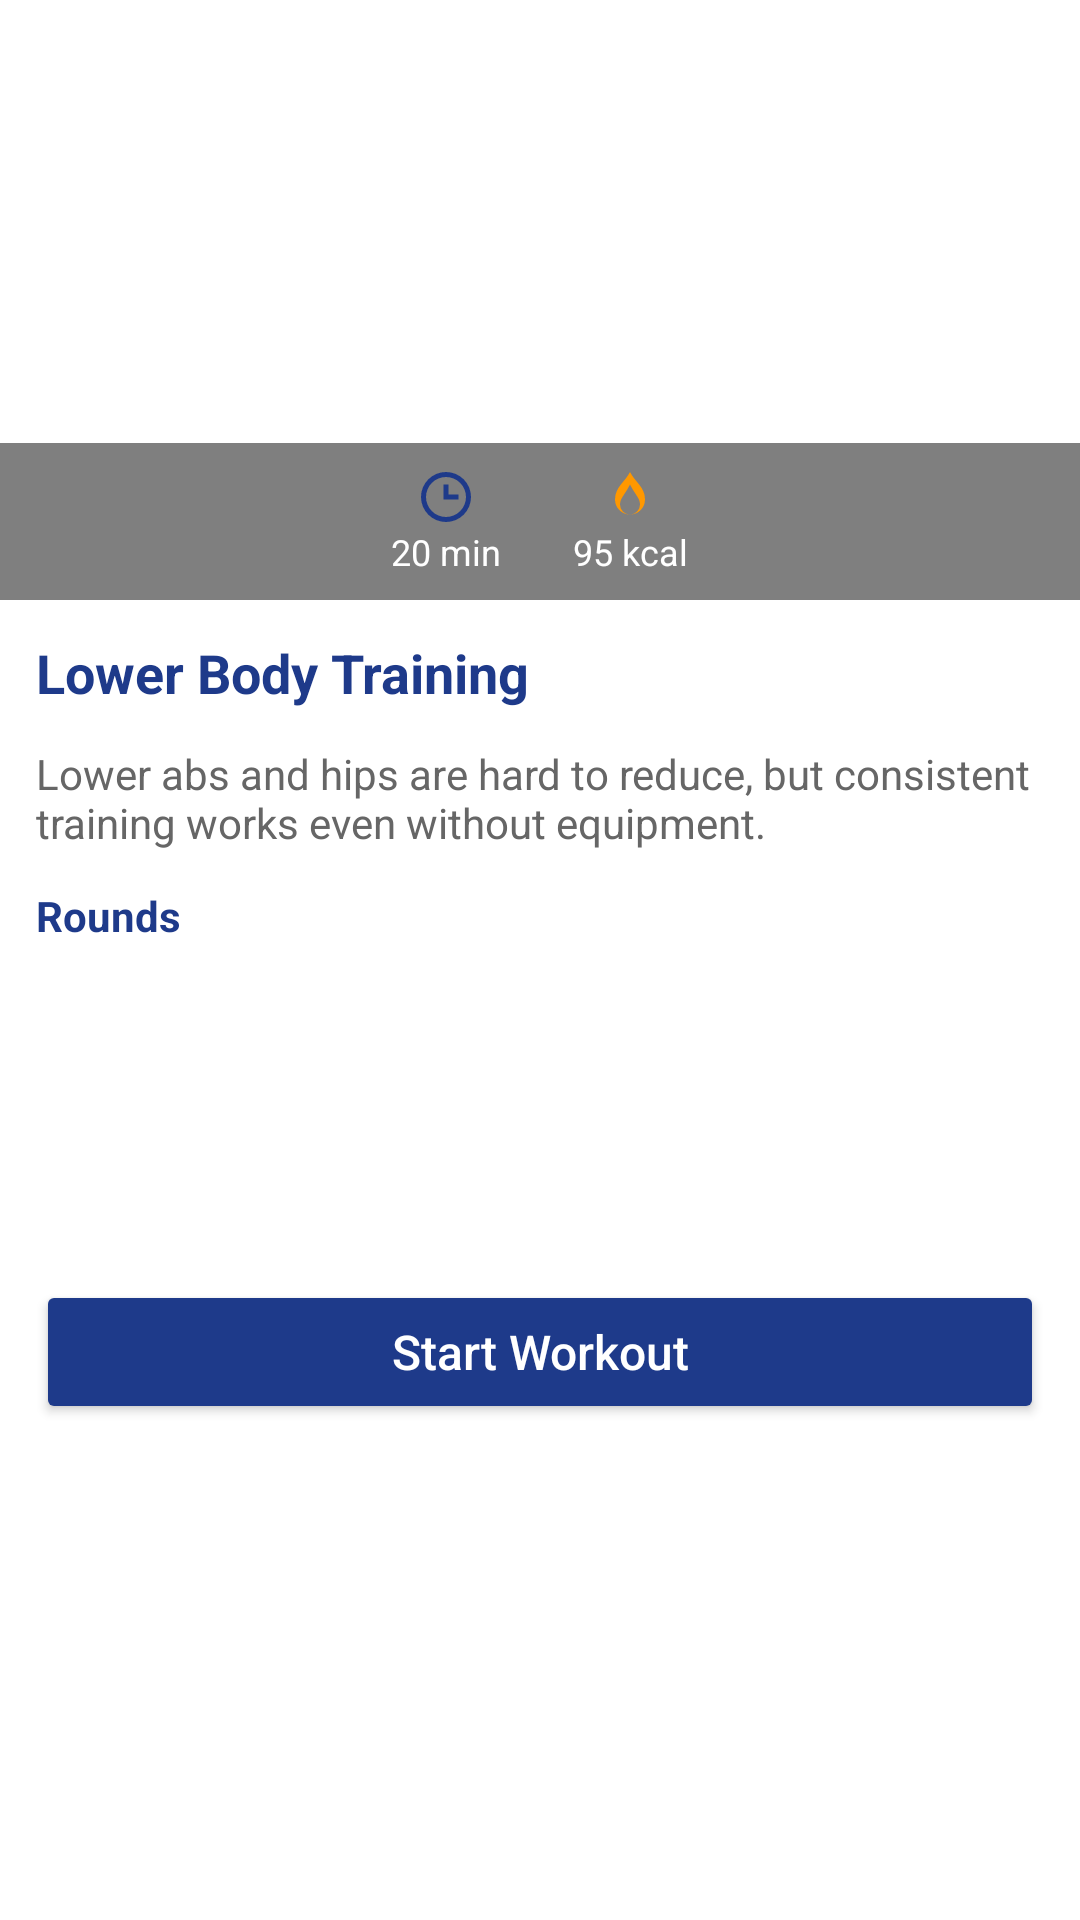

Locate icon controls on the screen. Image size 1080*1920, boxes as BBox(x1, y1, x2, y2).
fire: BBox(615, 472, 645, 515)
timer: BBox(421, 472, 471, 522)
